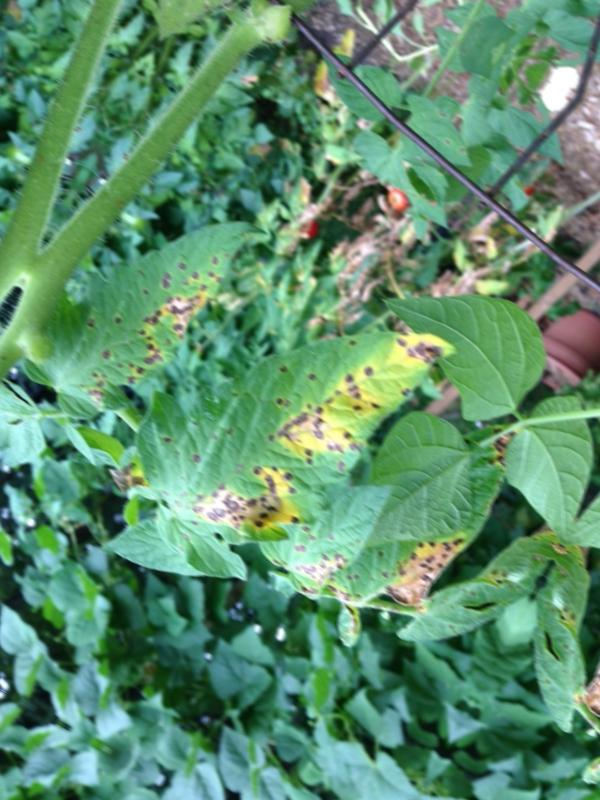Tomato Septoria leaf spot: (141, 247, 456, 591), (27, 177, 260, 457), (275, 448, 398, 602)
Tomato leaf: (477, 378, 600, 546)
